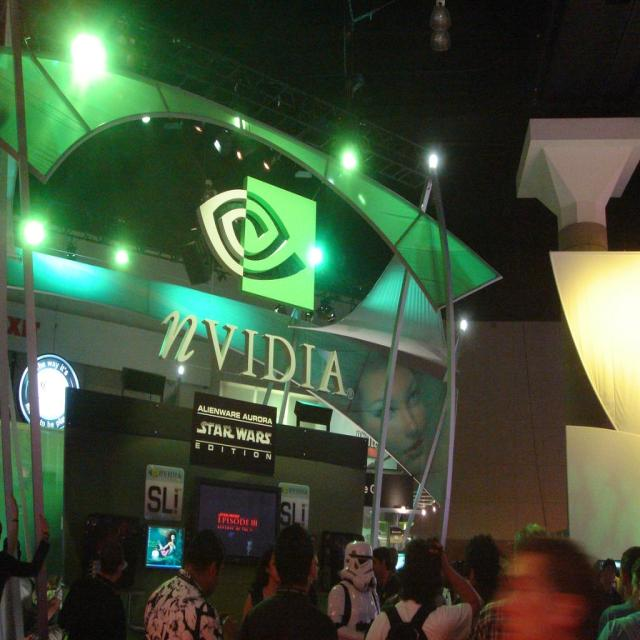nvidia: (198, 175, 320, 314)
